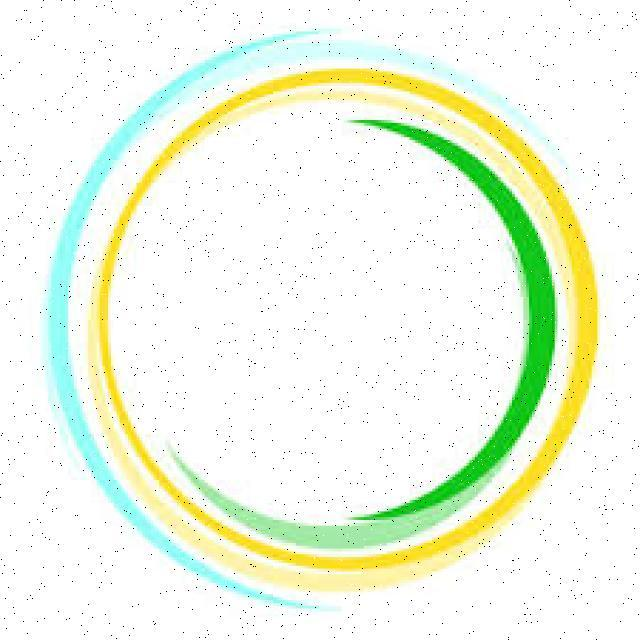Circle: (43, 26, 600, 608)
